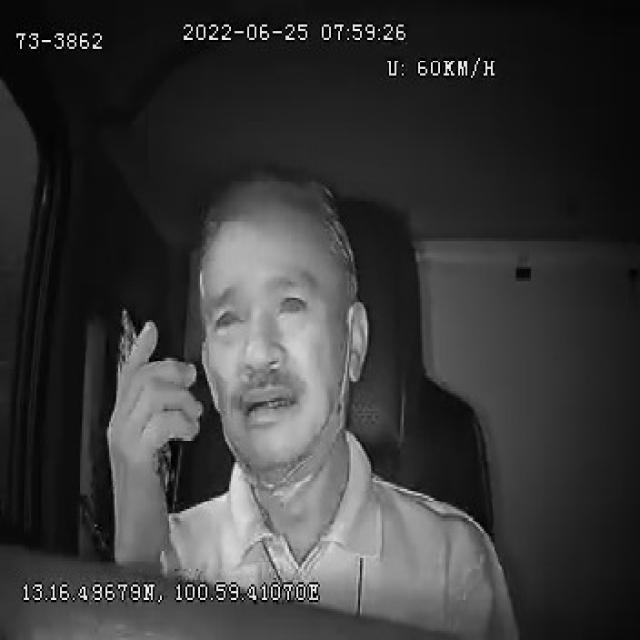phone: (117, 304, 184, 517)
